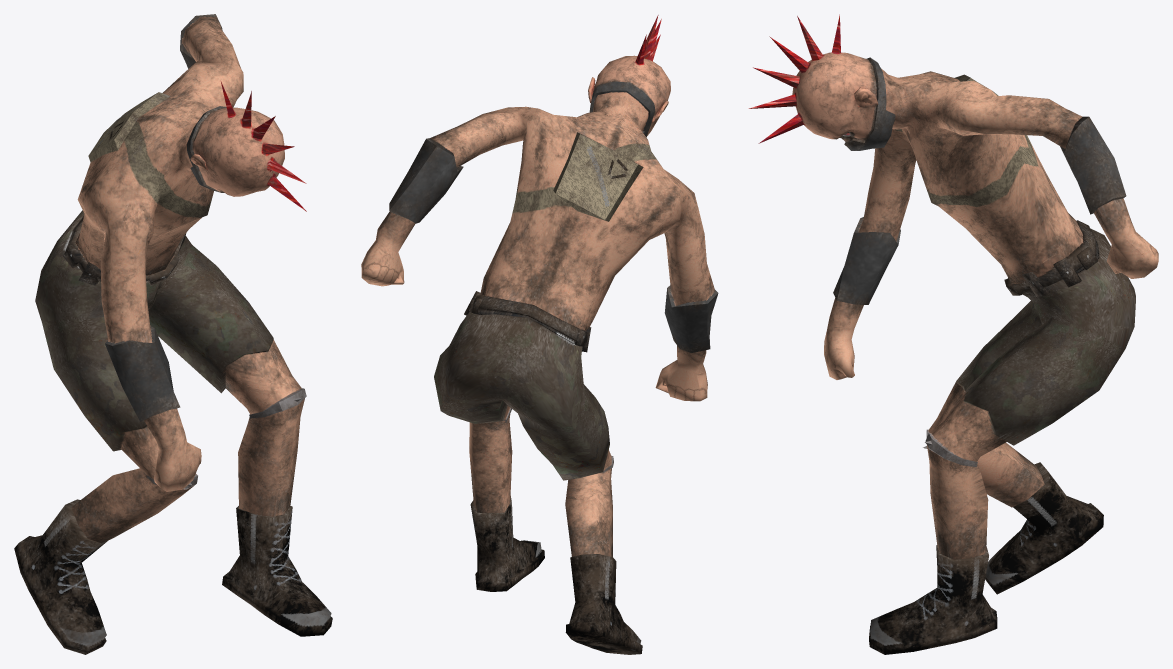
Rendered from Anim_cogerobjeto_npc2.0030.obj.
3 renders of one model, left to right at view 1: azimuth 30°, elevation 25°; view 2: azimuth 150°, elevation 25°; view 3: azimuth 270°, elevation 25°, orthographic. The views are drawn at different scales.
Parts seen in each view (by area): view 1: polySurface1; view 2: polySurface1; view 3: polySurface1.
Part boxes in pixels (bbox=[...]): polySurface1: bbox=[14, 14, 332, 654]; polySurface1: bbox=[361, 15, 718, 654]; polySurface1: bbox=[748, 14, 1158, 654].
Size of the model in its own units: 3.33 by 7.88 by 4.88.
2 materials, 2 textured.
